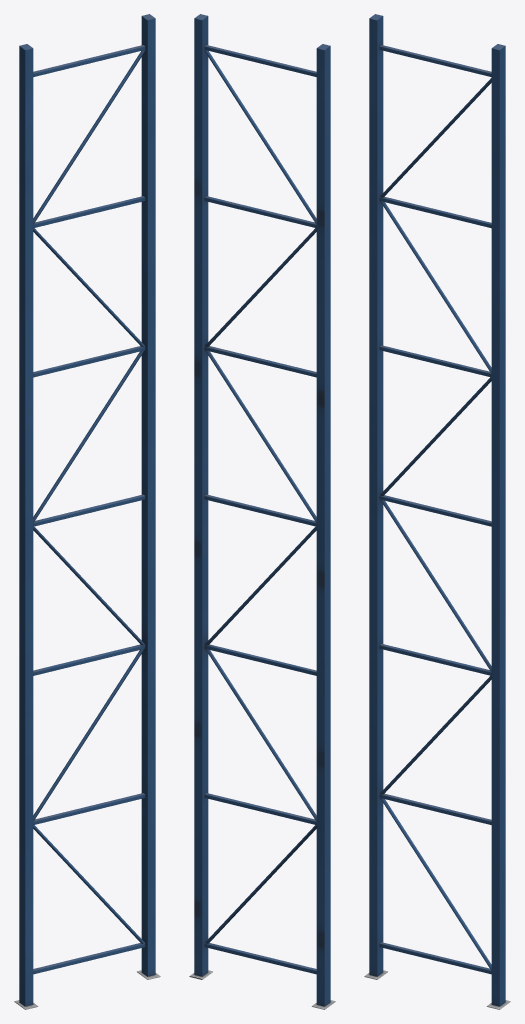
File: Rack_End.fbx
3 views of the same model, side by side, from view 1: azimuth 30°, elevation 25°; view 2: azimuth 150°, elevation 25°; view 3: azimuth 330°, elevation 25° (orthographic).
Parts seen in each view (by area): view 1: Rack_End_LOD0; view 2: Rack_End_LOD0; view 3: Rack_End_LOD0.
Part boxes in pixels (x1,y1,x2,y2): Rack_End_LOD0: (14,14,160,1009); Rack_End_LOD0: (189,14,335,1009); Rack_End_LOD0: (364,14,510,1009).
Size of what is drawn, in the model's own units: 1.14 by 7.7 by 0.16.
1 material, 1 textured.
